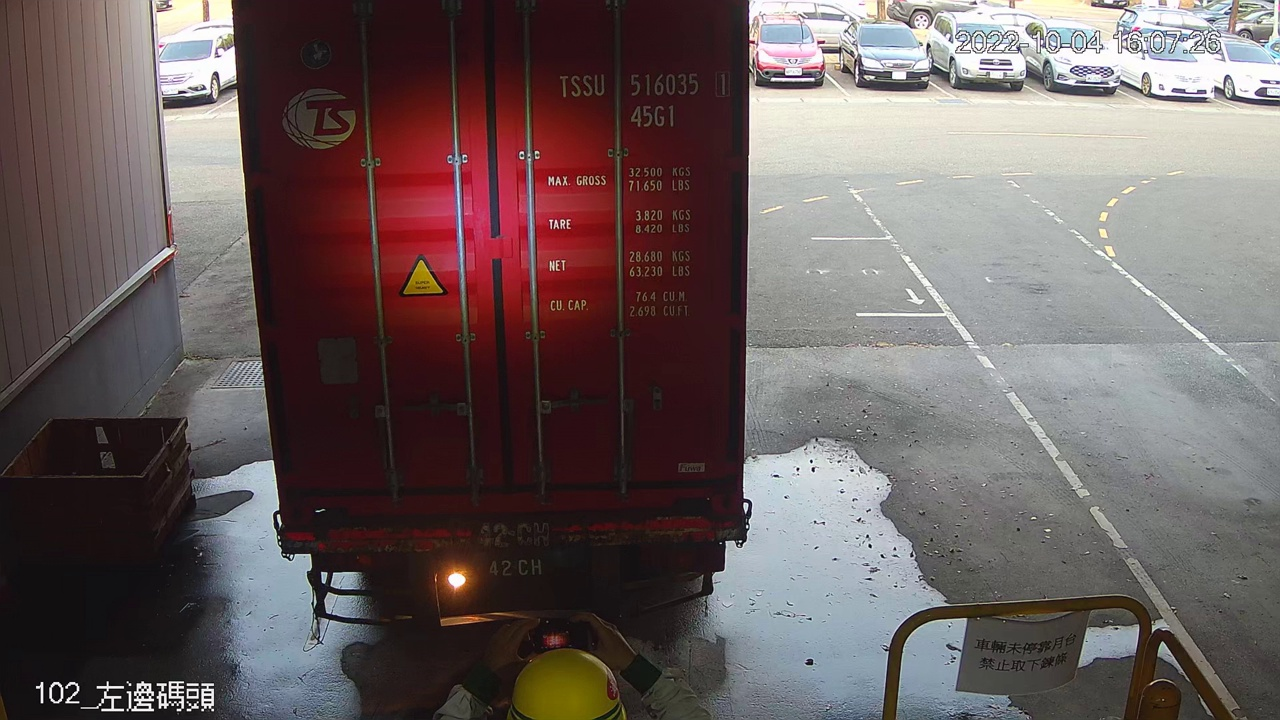container: (549, 66, 742, 135)
